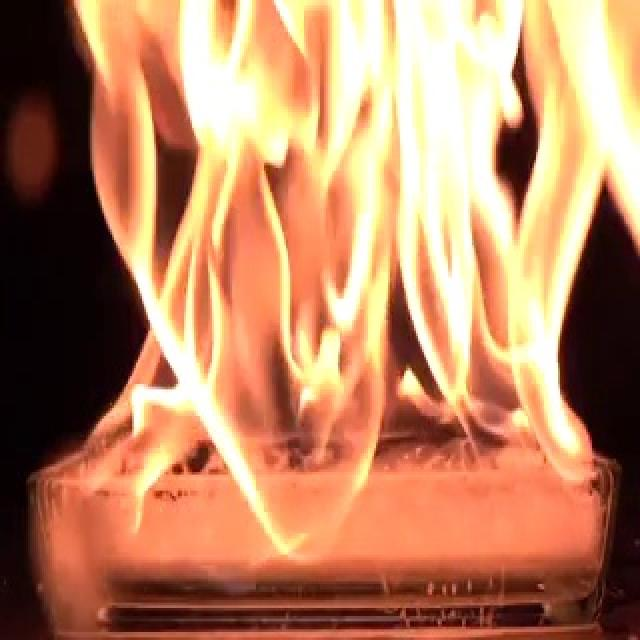fire: (68, 0, 611, 549)
